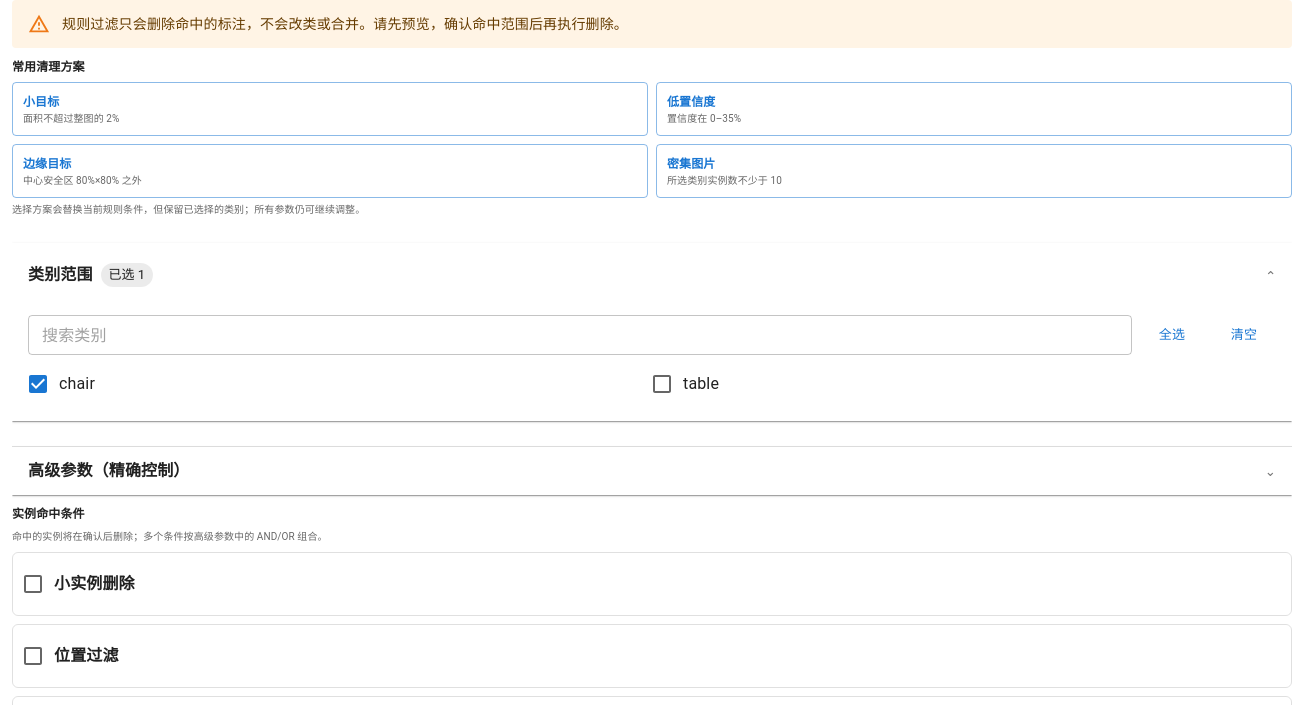
Scenario: data cleaning workbench › shows cleanup recipes and an explicit advanced parameter entry
The width and height of the screenshot is (1304, 705).
Expected: the button "高级参数（精确控制） ⌄" is shown, [12,447,1292,495]
Step 1. Click the button "低置信度 置信度在 0–35%" → (691,102), box [656,82,1292,136]
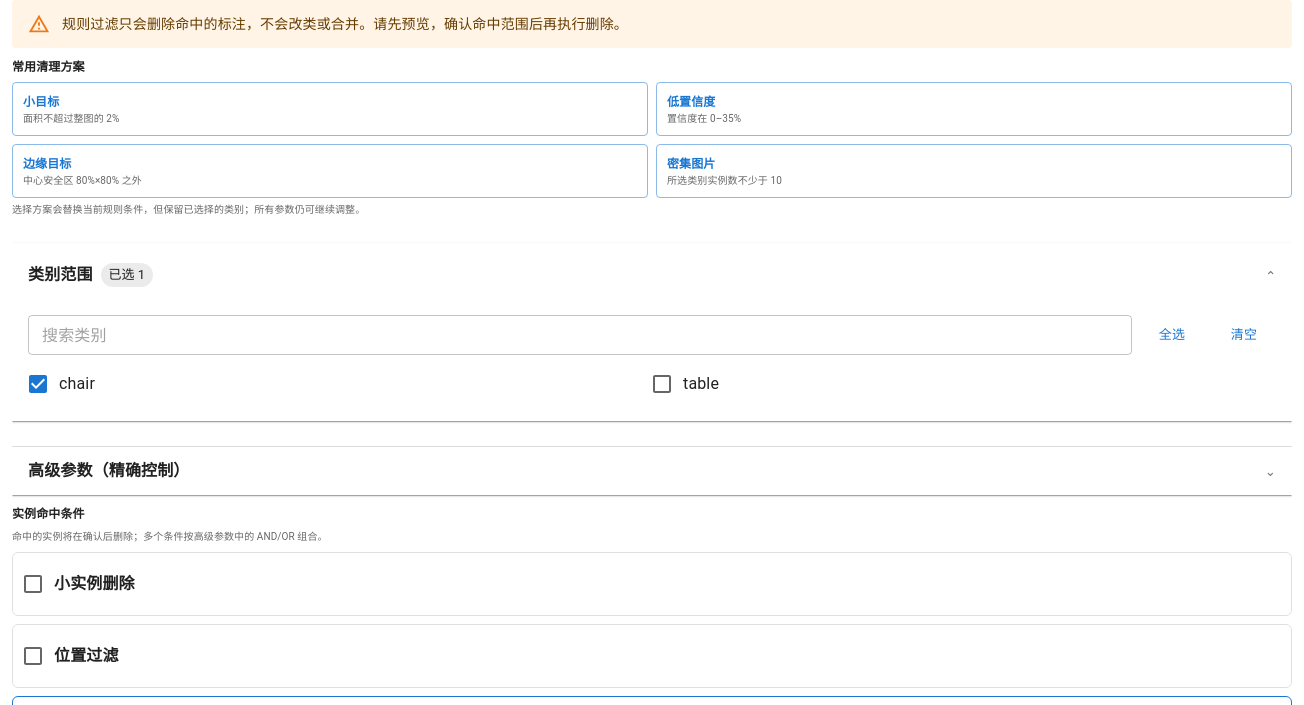
Step 2. Click the button "密集图片 所选类别实例数不少于 10" → (691,164), box [656,144,1292,198]
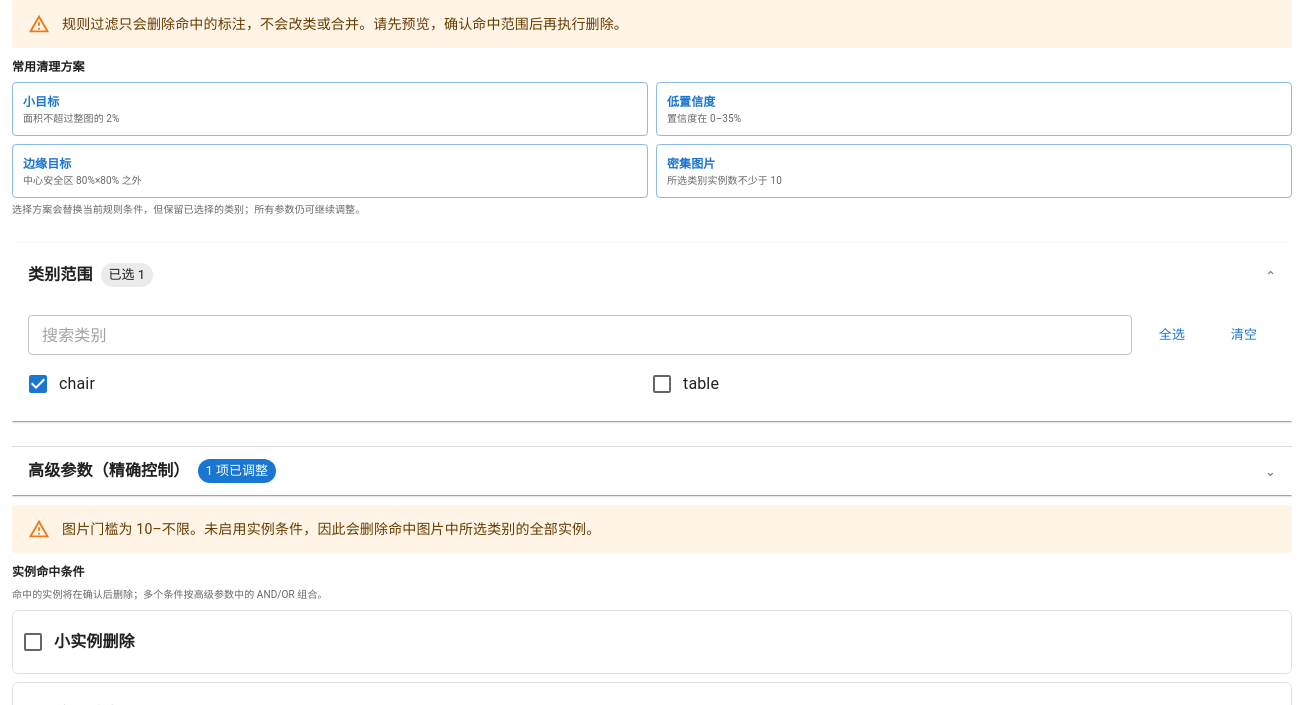
Result: the text "图片门槛为 10–不限。未启用实例条件，因此会删除命中图片中所选类别的全部实例。" is shown at [62,521,600,537]
